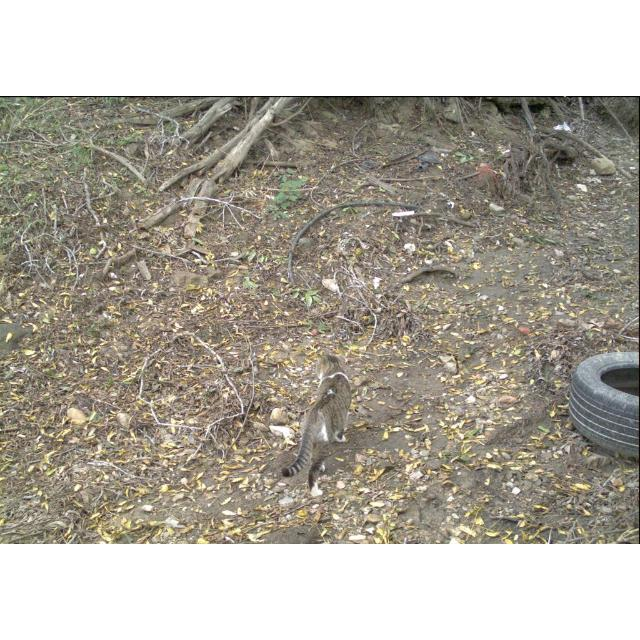animals: (280, 350, 352, 488)
